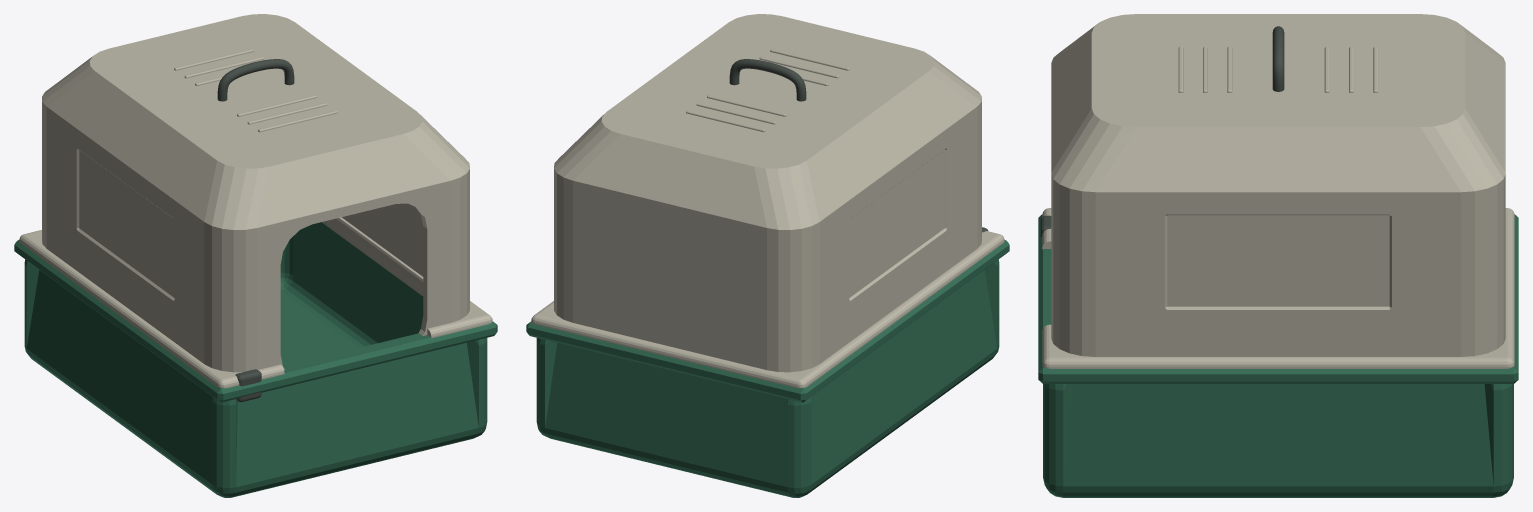
File: A-NEW-20261026-COVERED-CAT-LITTER-BOX-001_LOD1_R6.glb
The picture shows the model from 3 angles, left to right: view 1: azimuth 30°, elevation 25°; view 2: azimuth 150°, elevation 25°; view 3: azimuth 270°, elevation 25°; orthographic projection. The views are drawn at different scales.
Visible parts, largest first — view 1: removable hollow hood, deep empty basin, thick basin rim, hood seating flange, roof carrying handle; view 2: removable hollow hood, deep empty basin, thick basin rim, hood seating flange, roof carrying handle; view 3: removable hollow hood, deep empty basin, thick basin rim, hood seating flange, roof carrying handle.
Boxes of the visible parts, <box> form: removable hollow hood: <box>42,14,469,372</box>; deep empty basin: <box>24,222,487,497</box>; thick basin rim: <box>14,240,497,402</box>; hood seating flange: <box>19,217,492,388</box>; roof carrying handle: <box>217,59,294,101</box>; removable hollow hood: <box>554,14,981,372</box>; deep empty basin: <box>536,259,999,497</box>; thick basin rim: <box>526,240,1009,402</box>; hood seating flange: <box>531,231,1004,388</box>; roof carrying handle: <box>729,59,806,101</box>; removable hollow hood: <box>1051,14,1505,356</box>; deep empty basin: <box>1043,384,1513,497</box>; thick basin rim: <box>1038,214,1518,383</box>; hood seating flange: <box>1042,208,1514,368</box>; roof carrying handle: <box>1272,26,1284,91</box>.
Bounding box in the file's own units: 0.462 × 0.5303 × 0.592.
